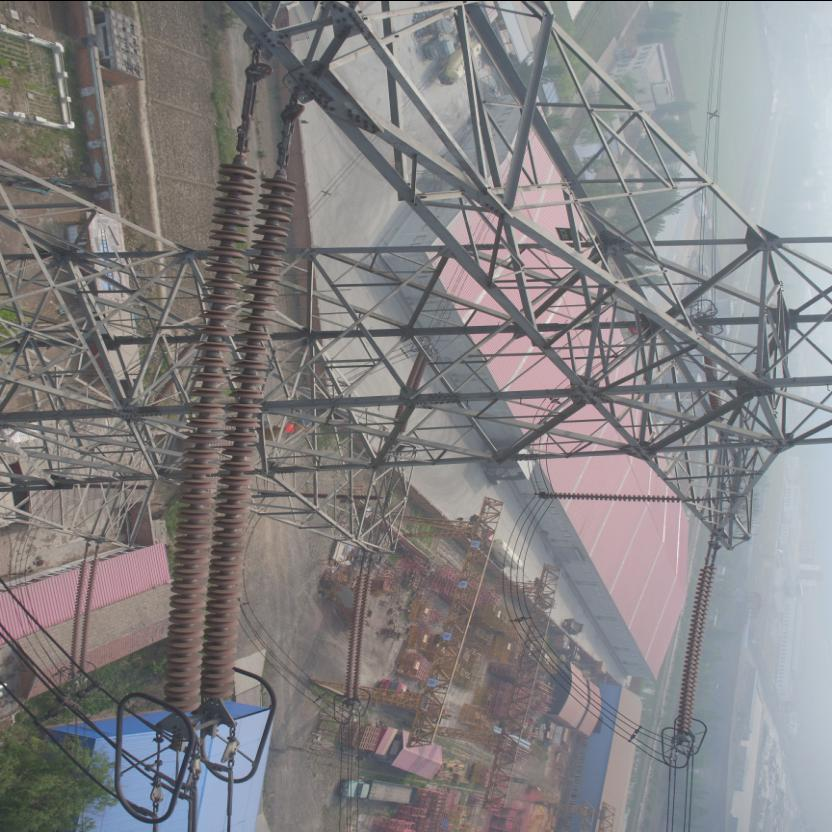insulator: (156, 127, 302, 725), (676, 558, 722, 740), (344, 560, 376, 702)
